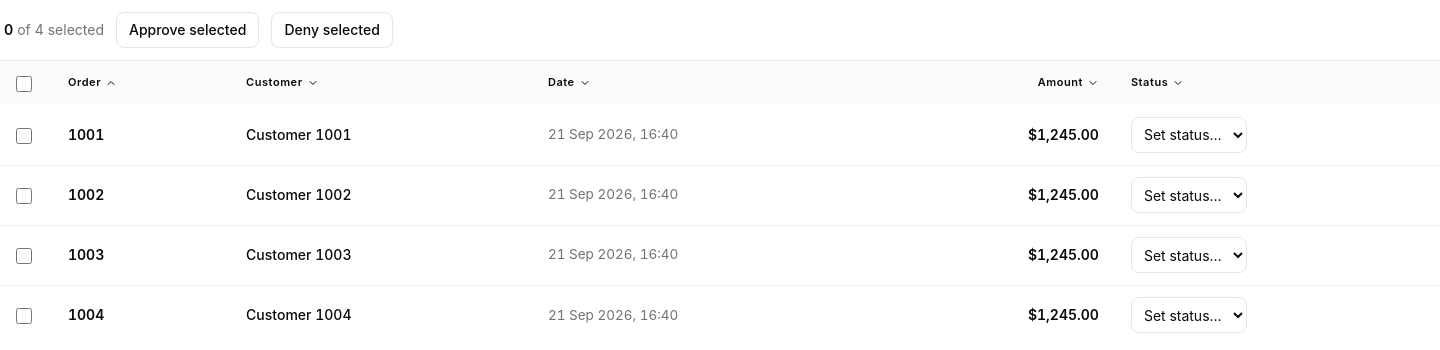
Test: OrdersTable › [SWHR3-C-0006] denying several selected rows stages each as DENIED
Click the checkbox named "select order 1001": {"x": 24, "y": 136} [16, 128, 32, 144]
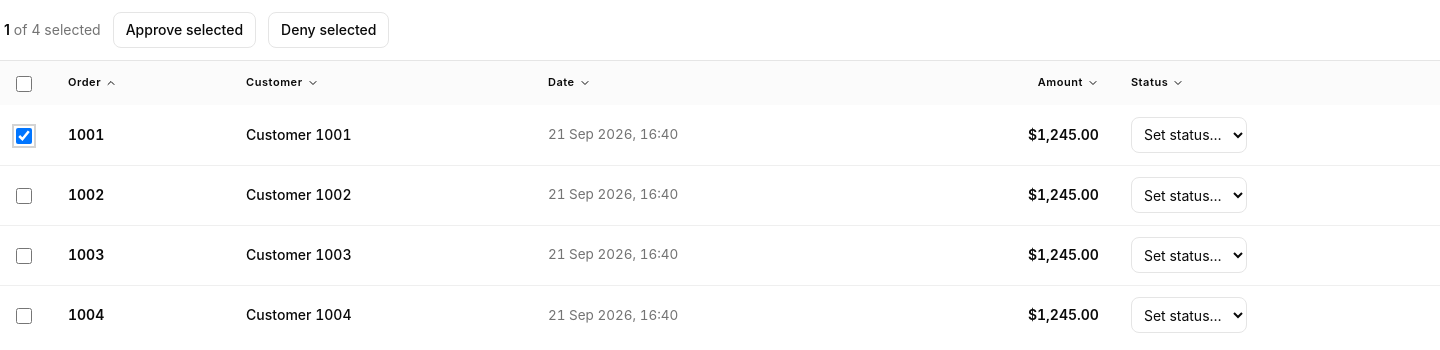
Click the checkbox named "Select order 1002": {"x": 24, "y": 196} [16, 188, 32, 204]
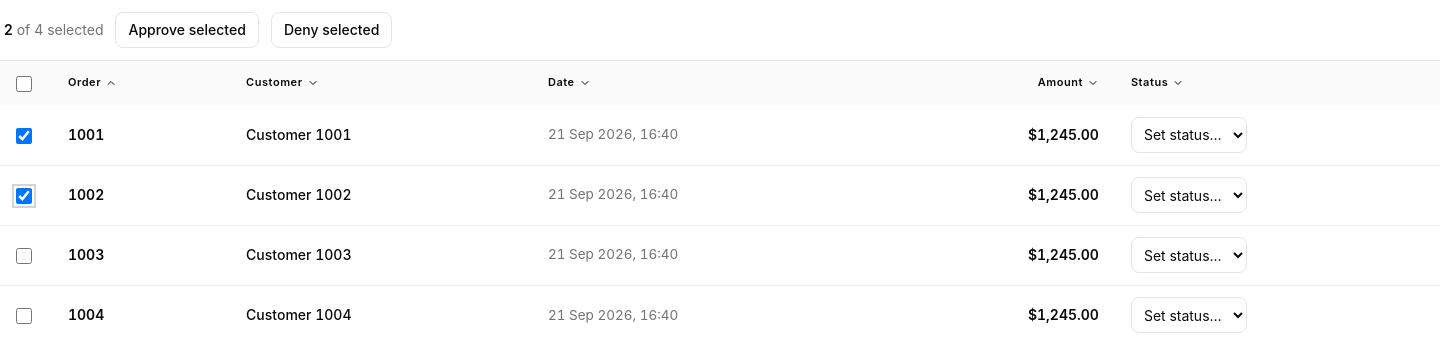
Click the checkbox named "Select order 1004": {"x": 24, "y": 316} [16, 308, 32, 324]
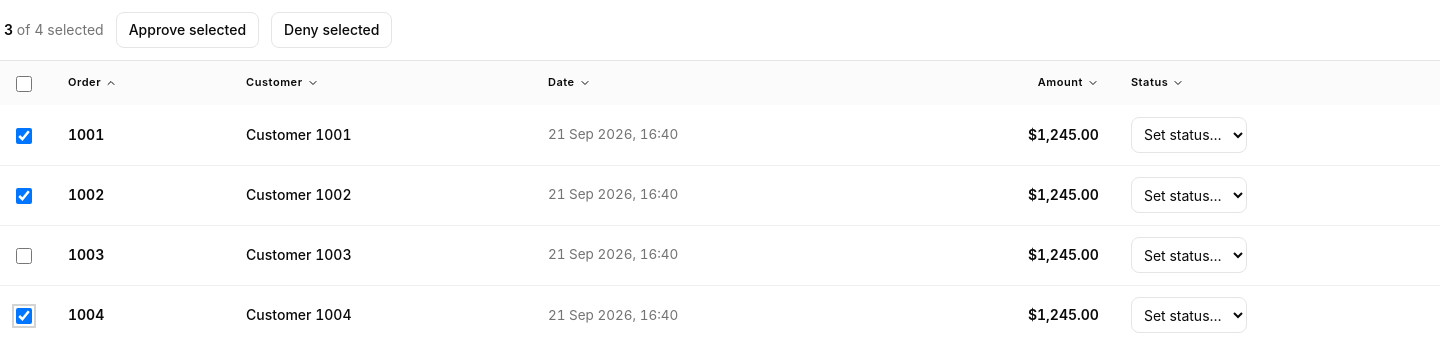
Click the button "Deny selected": {"x": 332, "y": 30} [271, 12, 392, 48]
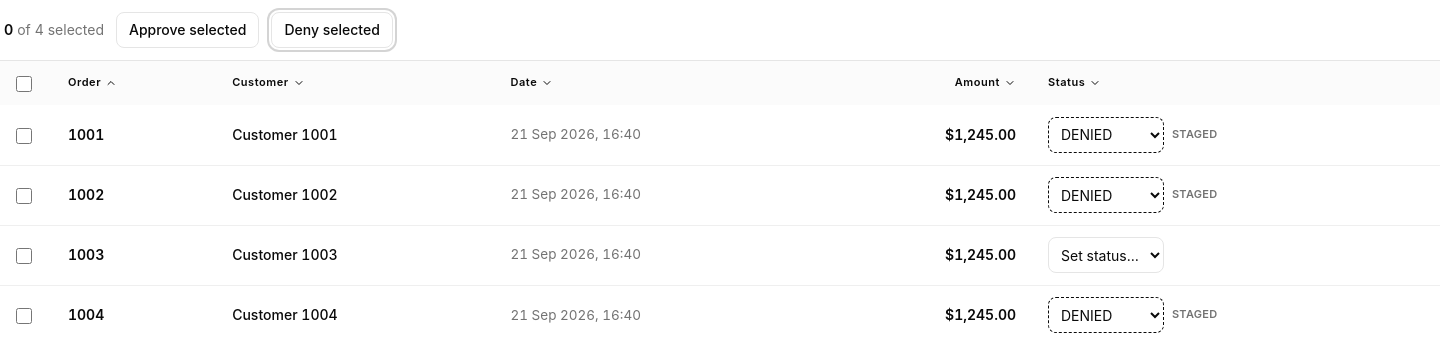
Expected: the dropdown named "Status for order 1001" shows "DENIED", [1048, 117, 1164, 153]
Expected: the text "Staged" in the row of "Customer 1001" is shown, [1172, 127, 1218, 141]
Expected: the dropdown named "Status for order 1002" shows "DENIED", [1048, 177, 1164, 213]
